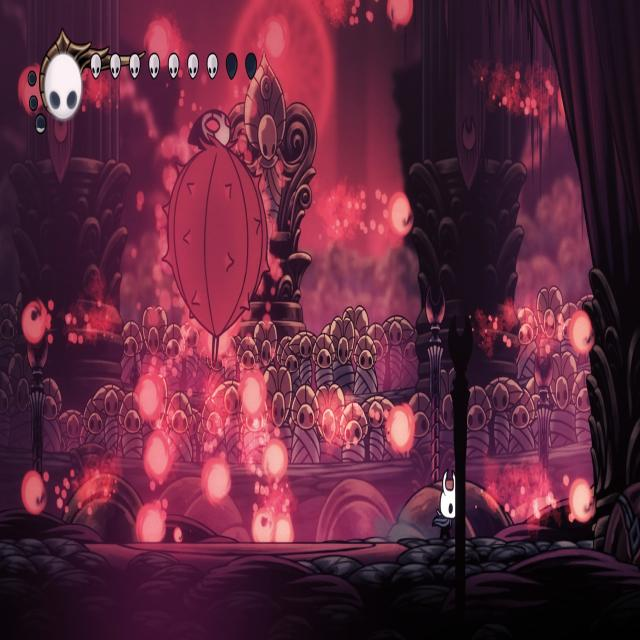Player: (432, 462, 458, 544)
Pufferfish: (157, 103, 271, 374)
Tiny Fireballs: (144, 430, 174, 483), (136, 374, 163, 424), (387, 404, 414, 454), (202, 458, 230, 505), (136, 502, 167, 544), (570, 310, 596, 357), (22, 469, 47, 515), (22, 300, 48, 344), (21, 65, 44, 113), (389, 192, 414, 236), (242, 372, 266, 416), (568, 479, 592, 523), (265, 16, 290, 58), (147, 19, 169, 64), (265, 440, 290, 479), (253, 509, 276, 543), (387, 0, 413, 27), (274, 516, 293, 543)
